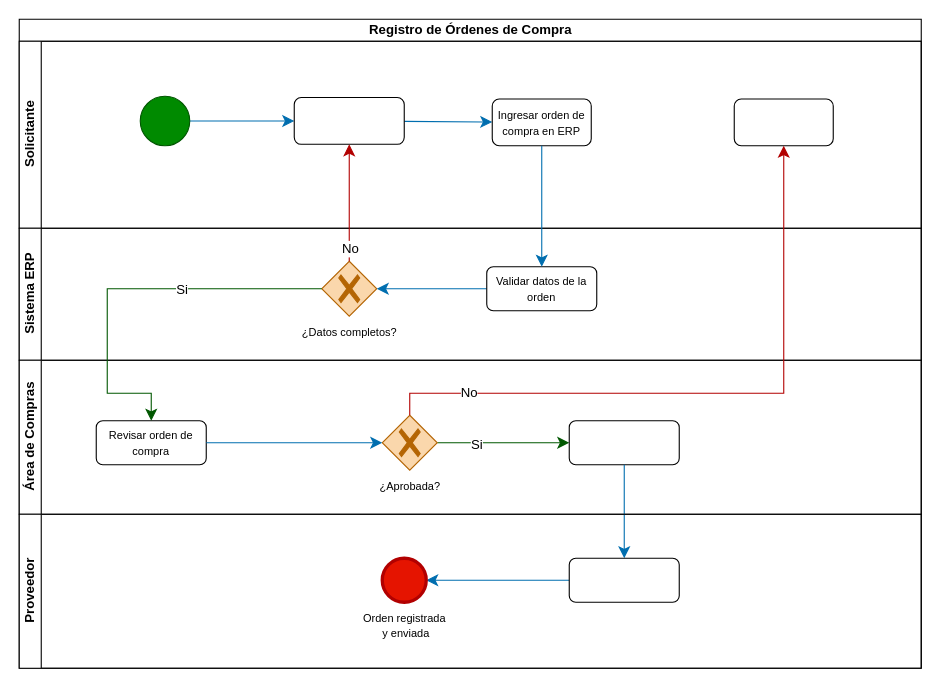
Some shapes in this 941 by 688 pixel diagram are drawn without their labels. Here are the shapes that lost their labels. From the top down, the box of each, then its label:
(139, 95, 190, 146): Necesidad de compra detectada
(293, 96, 404, 144): Preparar solicitud de orden de compra
(733, 98, 833, 146): Notificar rechazo
(568, 420, 679, 465): Enviar al proveedor
(568, 557, 679, 602): Recibir orden de compra
